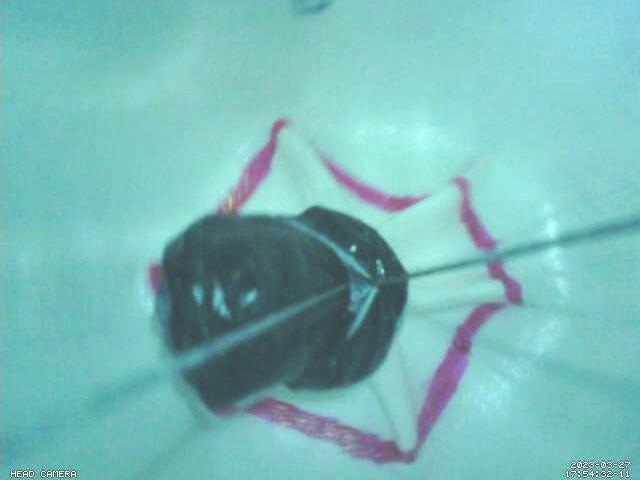red-circle: (147, 116, 525, 466)
